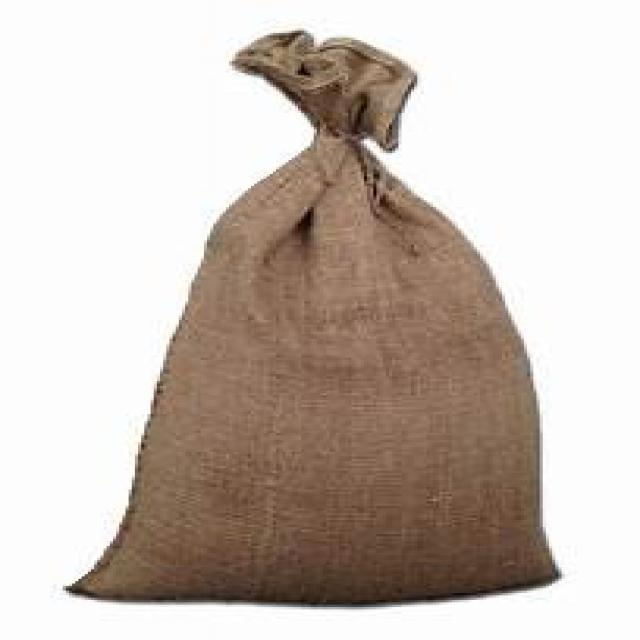gunny_bag: (61, 22, 565, 609)
